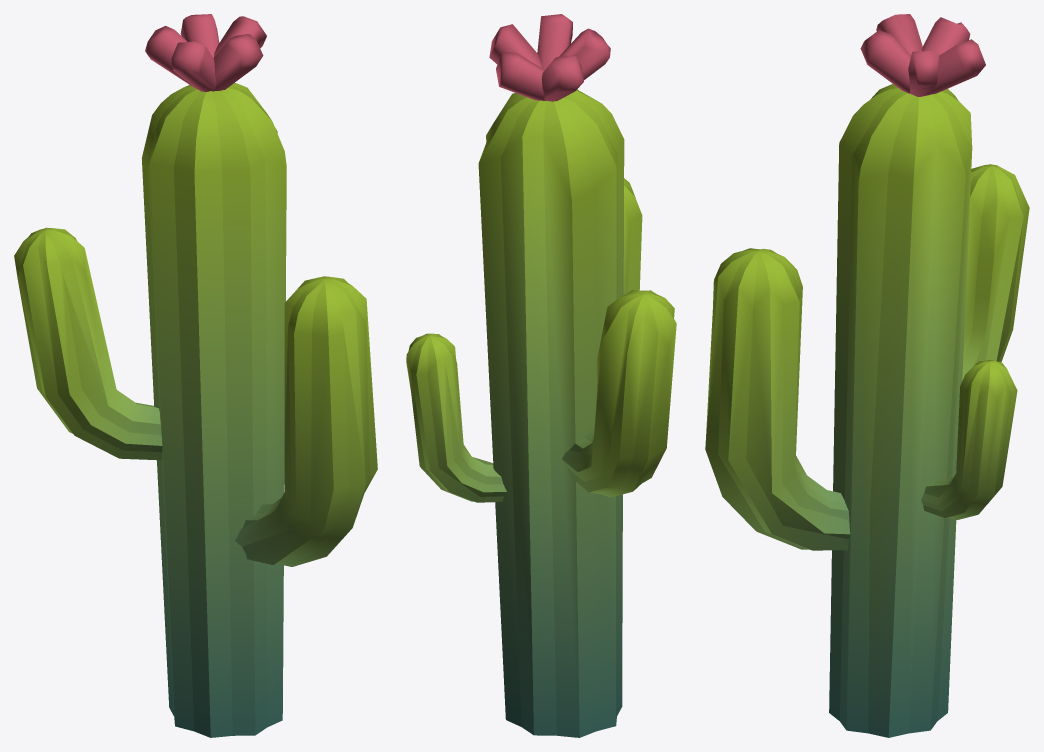
3 views of the same model, side by side, from view 1: azimuth 30°, elevation 25°; view 2: azimuth 150°, elevation 25°; view 3: azimuth 270°, elevation 25° (orthographic). The views are drawn at different scales.
Parts seen in each view (by area): view 1: LOD 1_7895142726789826799_f747010238922ae448abd02d66270030; view 2: LOD 1_7895142726789826799_f747010238922ae448abd02d66270030; view 3: LOD 1_7895142726789826799_f747010238922ae448abd02d66270030.
Boxes of the visible parts, x1=… form: LOD 1_7895142726789826799_f747010238922ae448abd02d66270030: x1=14, y1=14, x2=377, y2=737; LOD 1_7895142726789826799_f747010238922ae448abd02d66270030: x1=406, y1=14, x2=676, y2=737; LOD 1_7895142726789826799_f747010238922ae448abd02d66270030: x1=705, y1=14, x2=1029, y2=737.
Size of the model in its own units: 1.06 by 2.66 by 1.14.
